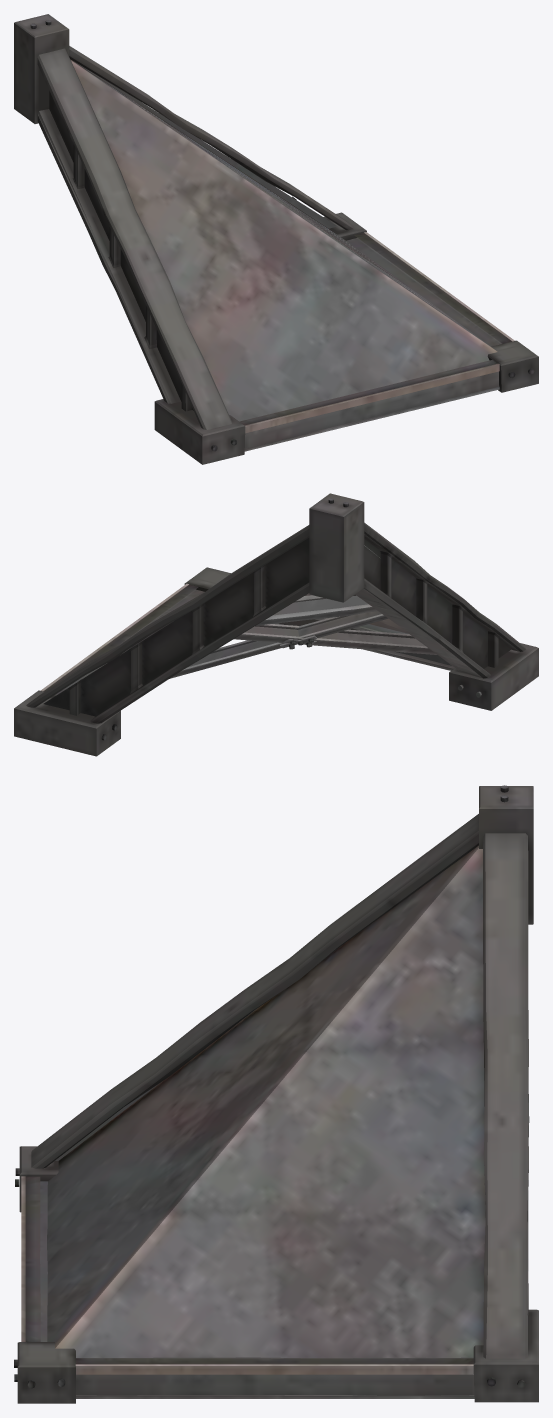
The model's file is SM_TriangleStairsCorner_Iron_25346b.glb.
The picture shows the model from 3 angles, top to bottom: view 1: azimuth 30°, elevation 25°; view 2: azimuth 150°, elevation 25°; view 3: azimuth 270°, elevation 25°; orthographic projection. The views are drawn at different scales.
Bounding box in the file's own units: 4.15 × 3.57 × 4.19.
Materials: 1 (1 with a texture image).
